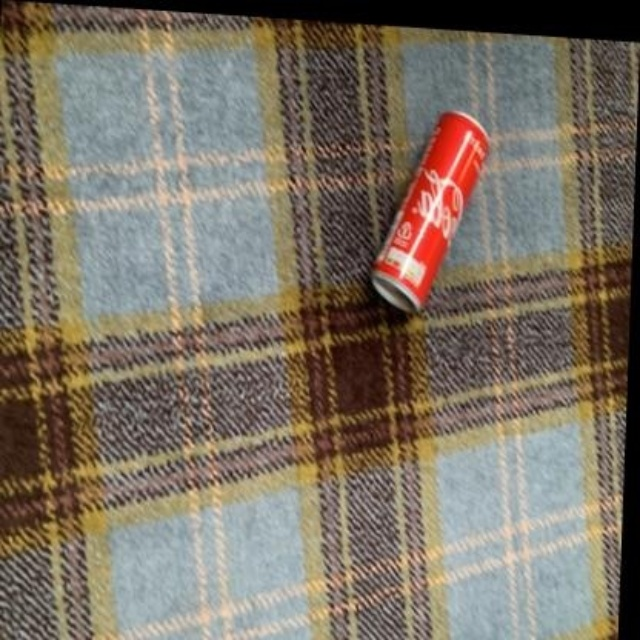trash: (371, 111, 488, 311)
